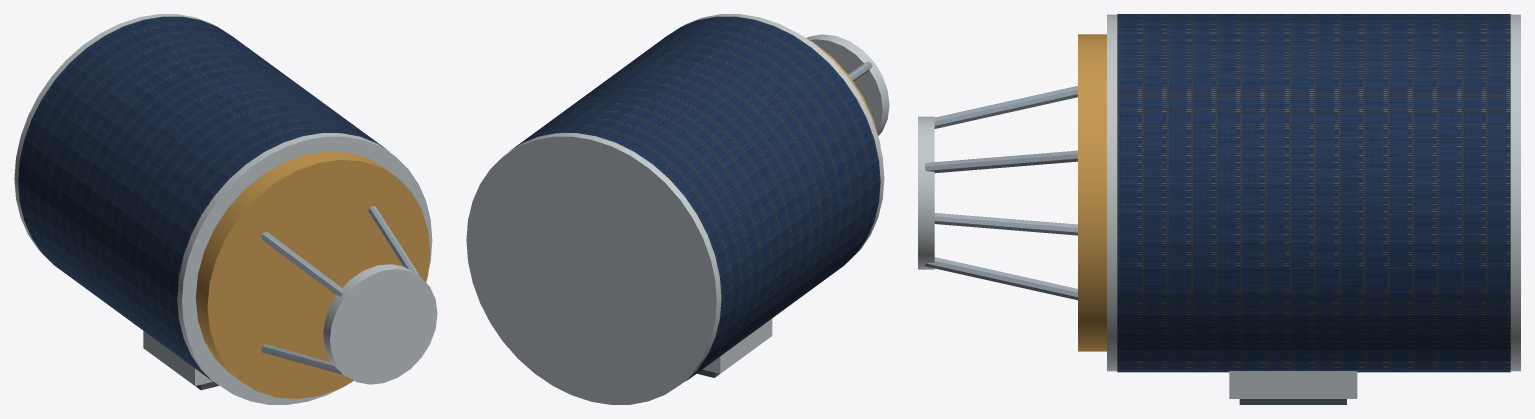
File: goes-early.glb
The picture shows the model from 3 angles, left to right: view 1: azimuth 30°, elevation 25°; view 2: azimuth 150°, elevation 25°; view 3: azimuth 270°, elevation 25°; orthographic projection. The views are drawn at different scales.
Visible parts, largest first — view 1: Body-mounted solar cells, Despun equipment deck, Solar drum core, Antenna tower platform, Antenna tower leg (×3), Radiometer window surround; view 2: Body-mounted solar cells, Solar drum core, Antenna tower platform, Radiometer window surround; view 3: Body-mounted solar cells, Despun equipment deck, Solar drum core, Antenna tower leg (×4), Radiometer window surround, Antenna tower platform, Radiometer viewing port.
Boxes of the visible parts, <box> form: Body-mounted solar cells: <box>18,16,389,381</box>; Despun equipment deck: <box>195,151,430,398</box>; Solar drum core: <box>14,14,432,404</box>; Antenna tower platform: <box>323,264,437,384</box>; Antenna tower leg (×3): <box>261,206,419,374</box>; Radiometer window surround: <box>143,331,213,385</box>; Body-mounted solar cells: <box>509,16,880,381</box>; Solar drum core: <box>466,14,884,404</box>; Antenna tower platform: <box>806,34,889,135</box>; Radiometer window surround: <box>702,318,772,373</box>; Body-mounted solar cells: <box>1117,14,1510,372</box>; Despun equipment deck: <box>1078,34,1106,351</box>; Solar drum core: <box>1107,14,1520,371</box>; Antenna tower leg (×4): <box>925,86,1077,300</box>; Radiometer window surround: <box>1229,371,1357,398</box>; Antenna tower platform: <box>918,116,934,269</box>; Radiometer viewing port: <box>1239,399,1346,404</box>.
Size of the model in its own units: 1.92 by 2.02 by 3.23.
Materials: 5 (1 with a texture image).
